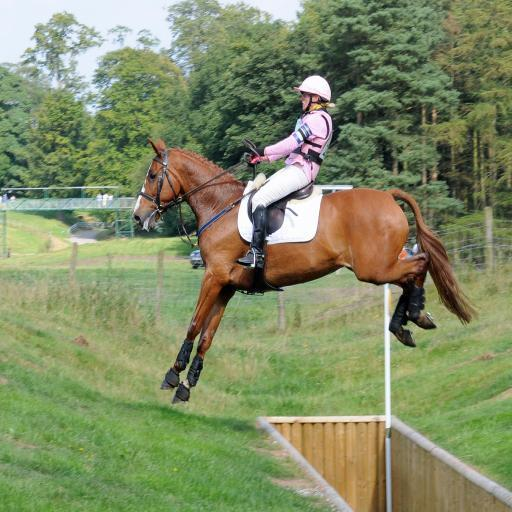horse: (132, 136, 482, 404)
